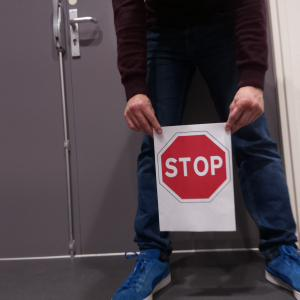stop: (159, 134, 230, 202)
